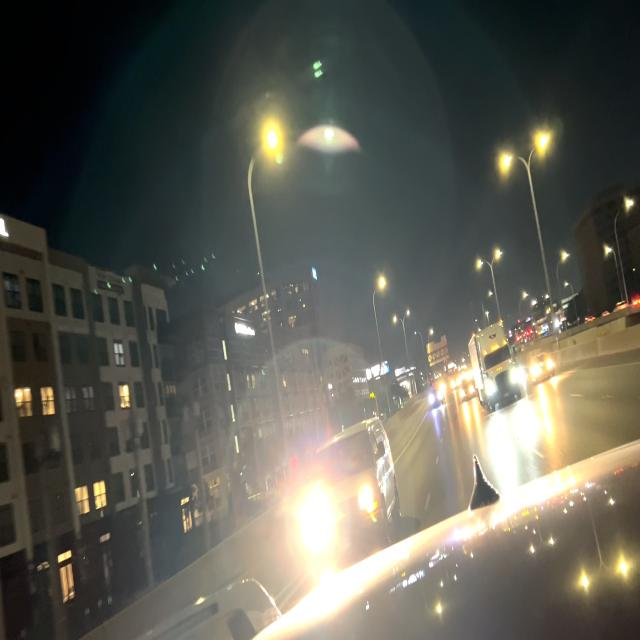back-of-sign: (426, 334, 450, 369)
